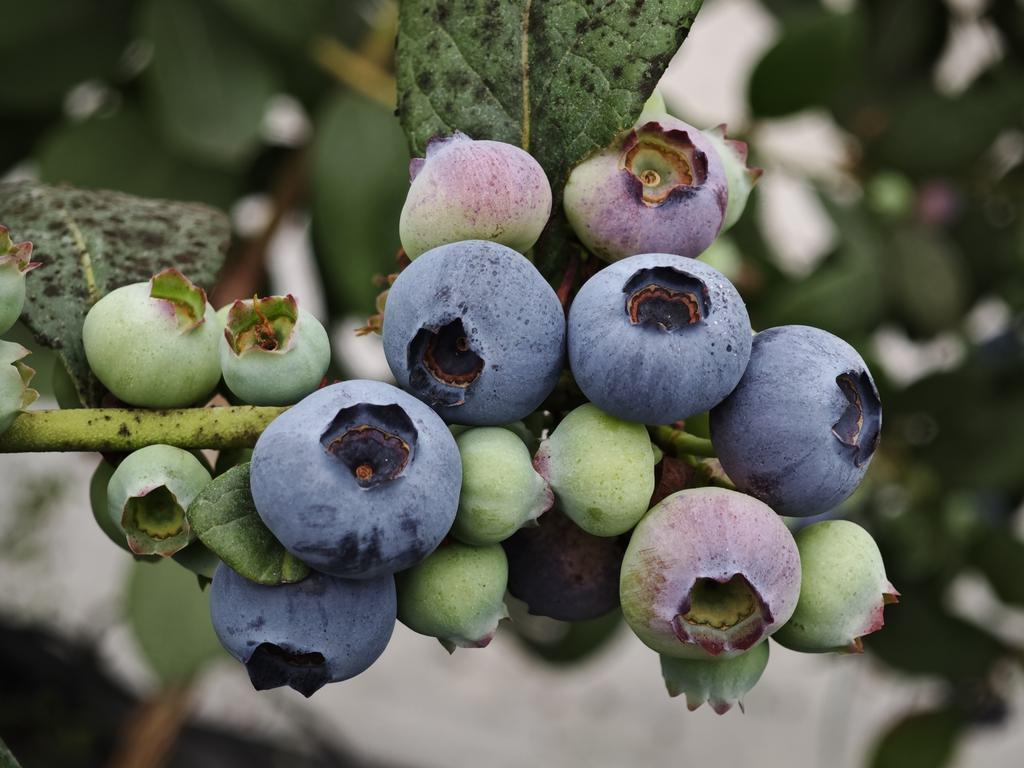RipeBlueBerry: (248, 374, 465, 578), (378, 235, 569, 429), (712, 322, 890, 519), (568, 254, 755, 425)
Semi-RipeBlueBerry: (615, 482, 805, 665), (563, 110, 731, 257), (394, 132, 555, 253)
UnripeBlueBerry: (80, 269, 226, 408)
